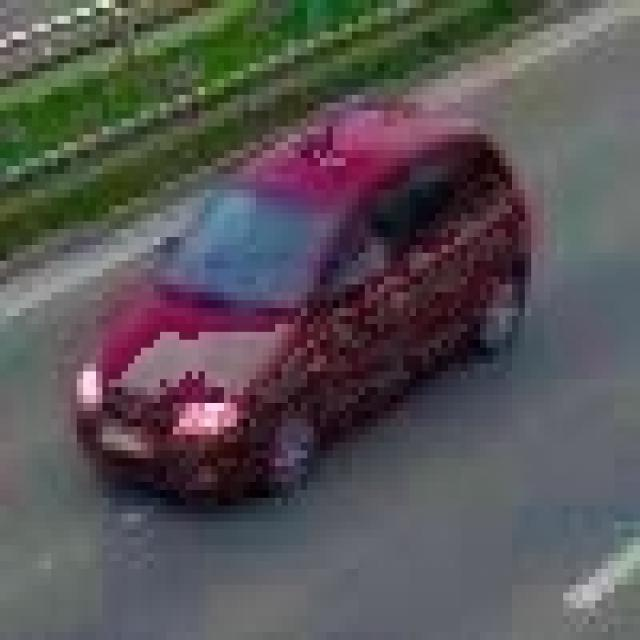maroon: (77, 118, 525, 498)
